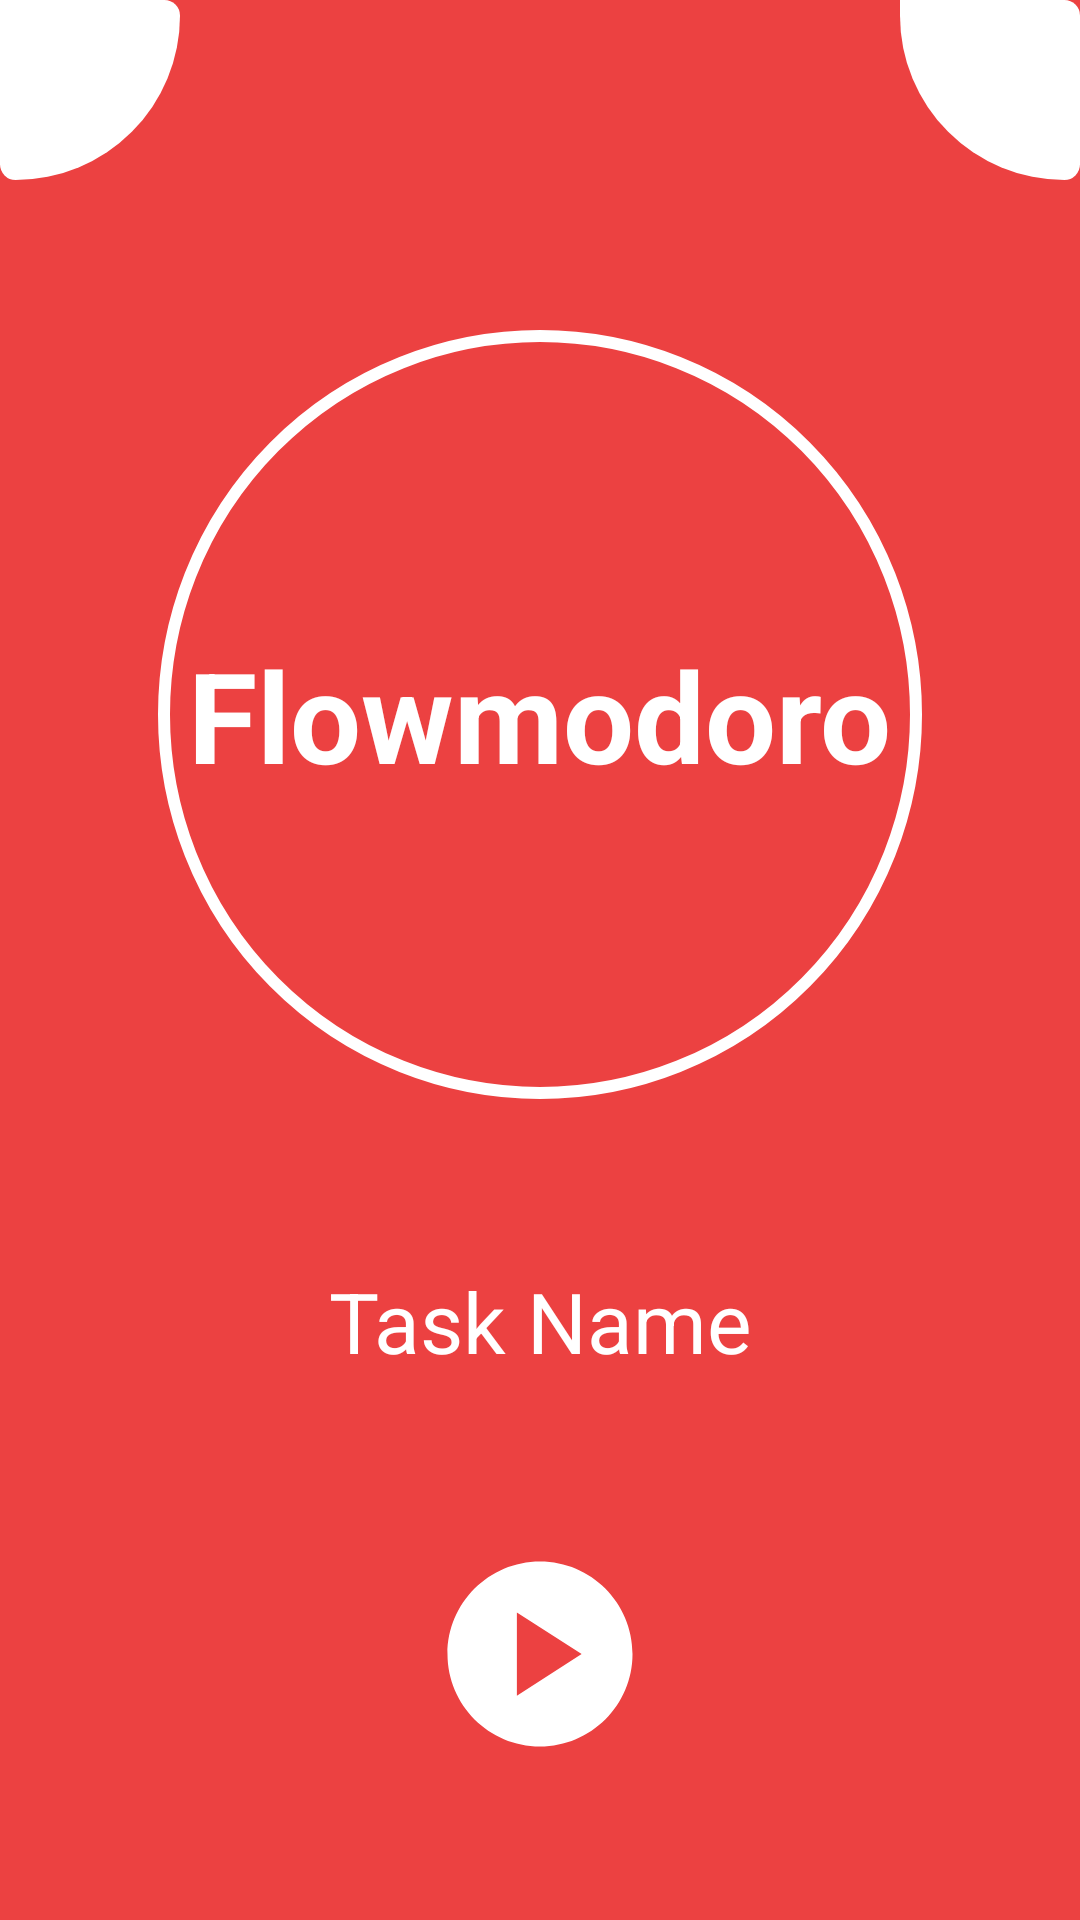

Where to tap for icons on this 1080*1920 app screen, as point (x, y):
start circle: point (540, 1654)
